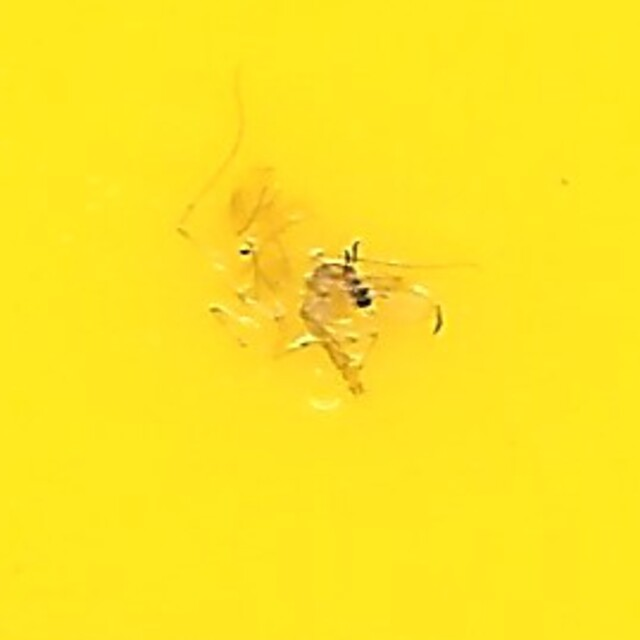Nematocera: (238, 221, 402, 419)
